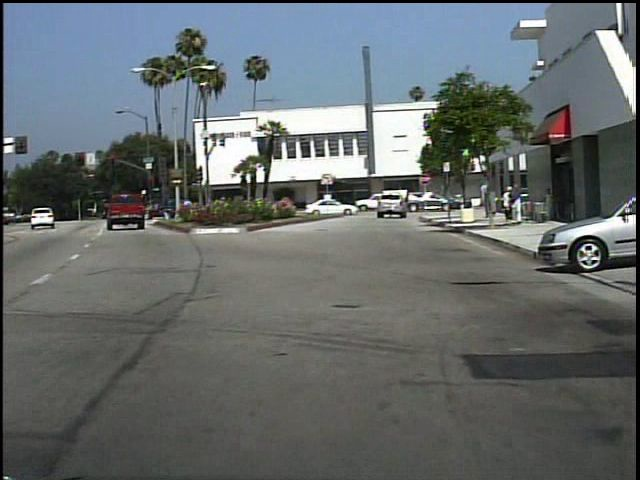person: (507, 182, 524, 224), (370, 190, 391, 219), (540, 184, 553, 222), (499, 184, 510, 220)
